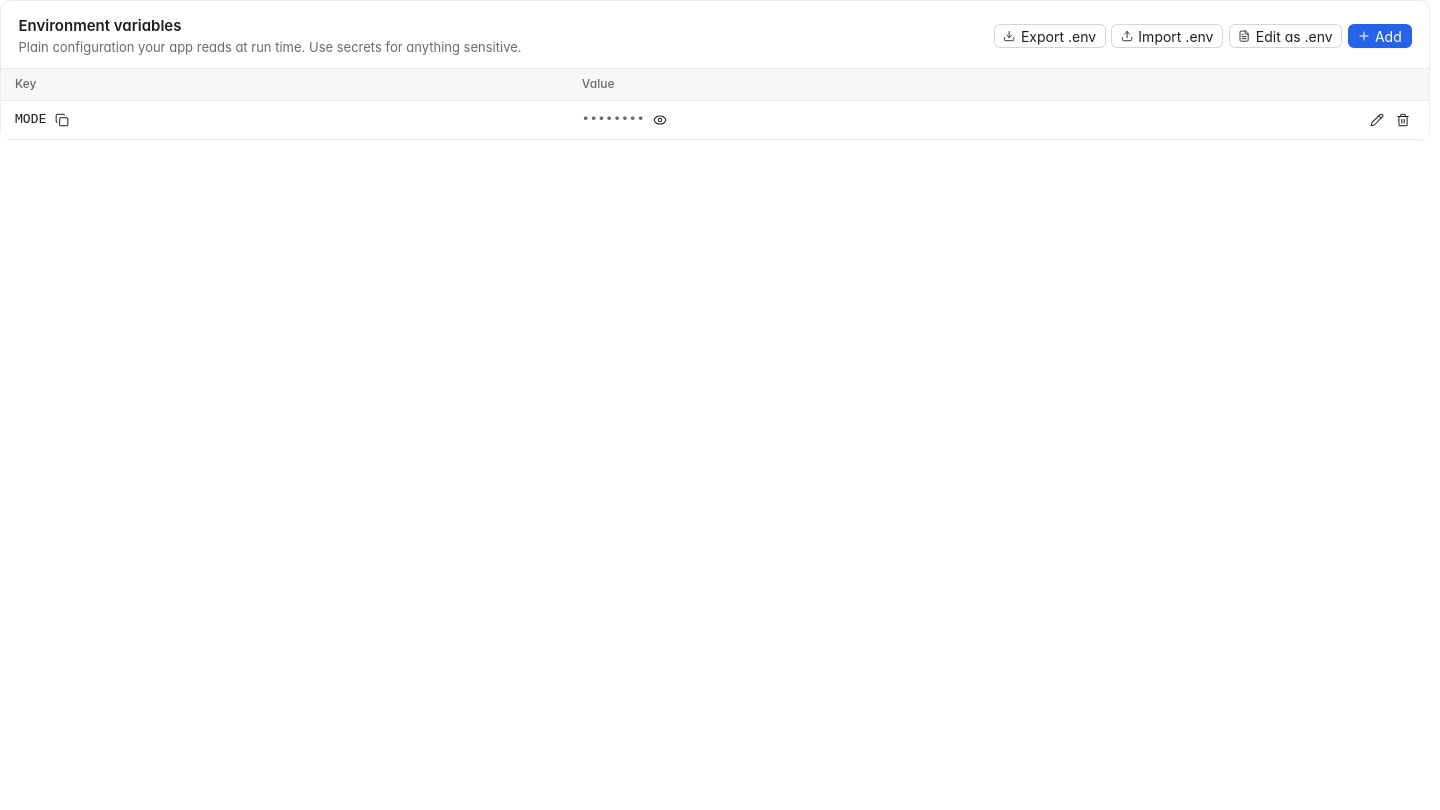
Test case: EnvEditor › adds a variable through the dialog and saves the whole map
Expected: the text "MODE" is shown, [15, 110, 46, 129]
Step 1. Click the button "Add" → (1380, 36), box [1348, 24, 1412, 48]
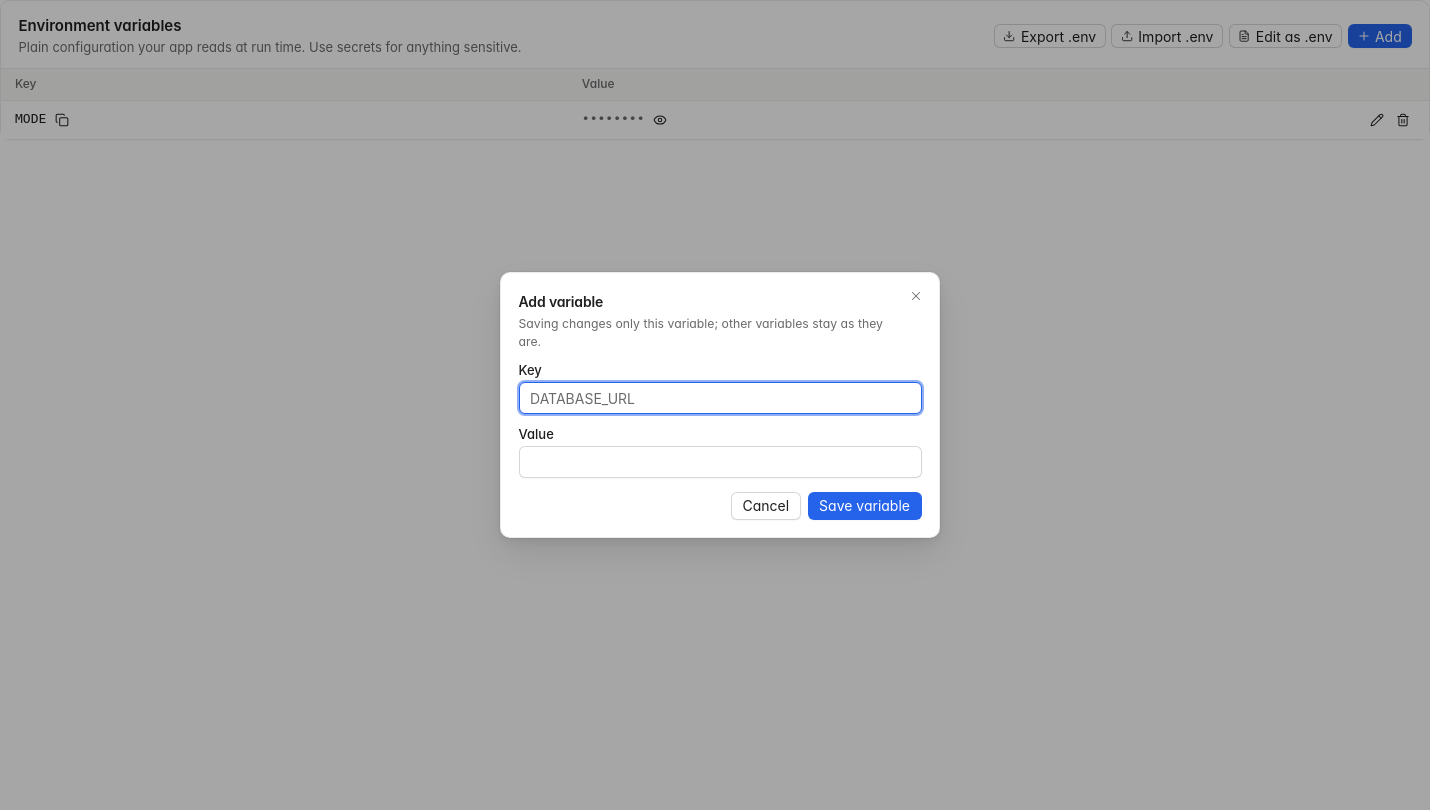
Step 2. Type "REGION" into the field labelled "Key" → (720, 398), box [518, 382, 922, 414]
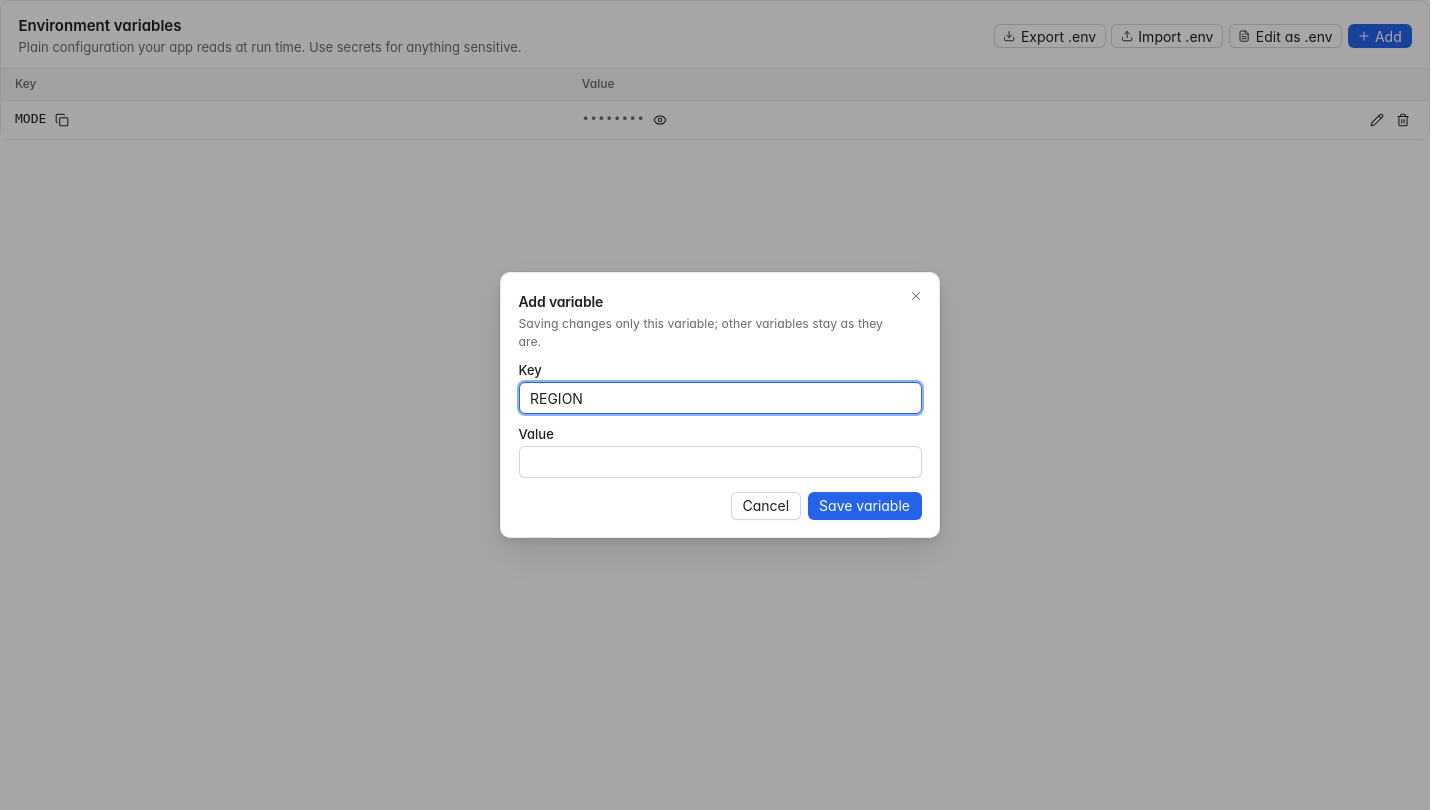
Step 3. Type "eu" into the field labelled "Value" → (720, 462), box [518, 446, 922, 478]
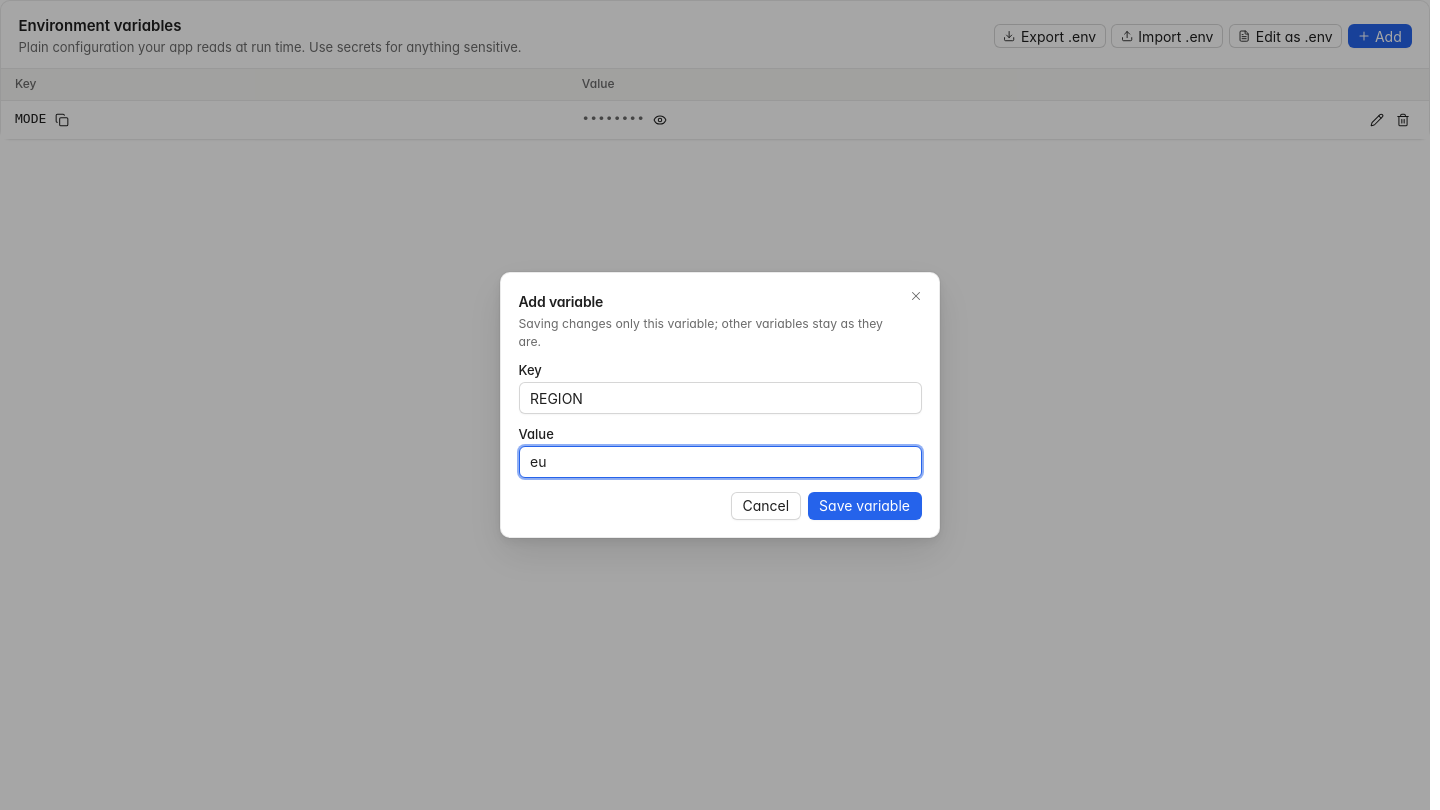
Step 4. Click the button "Save variable" → (865, 506), box [808, 492, 922, 520]
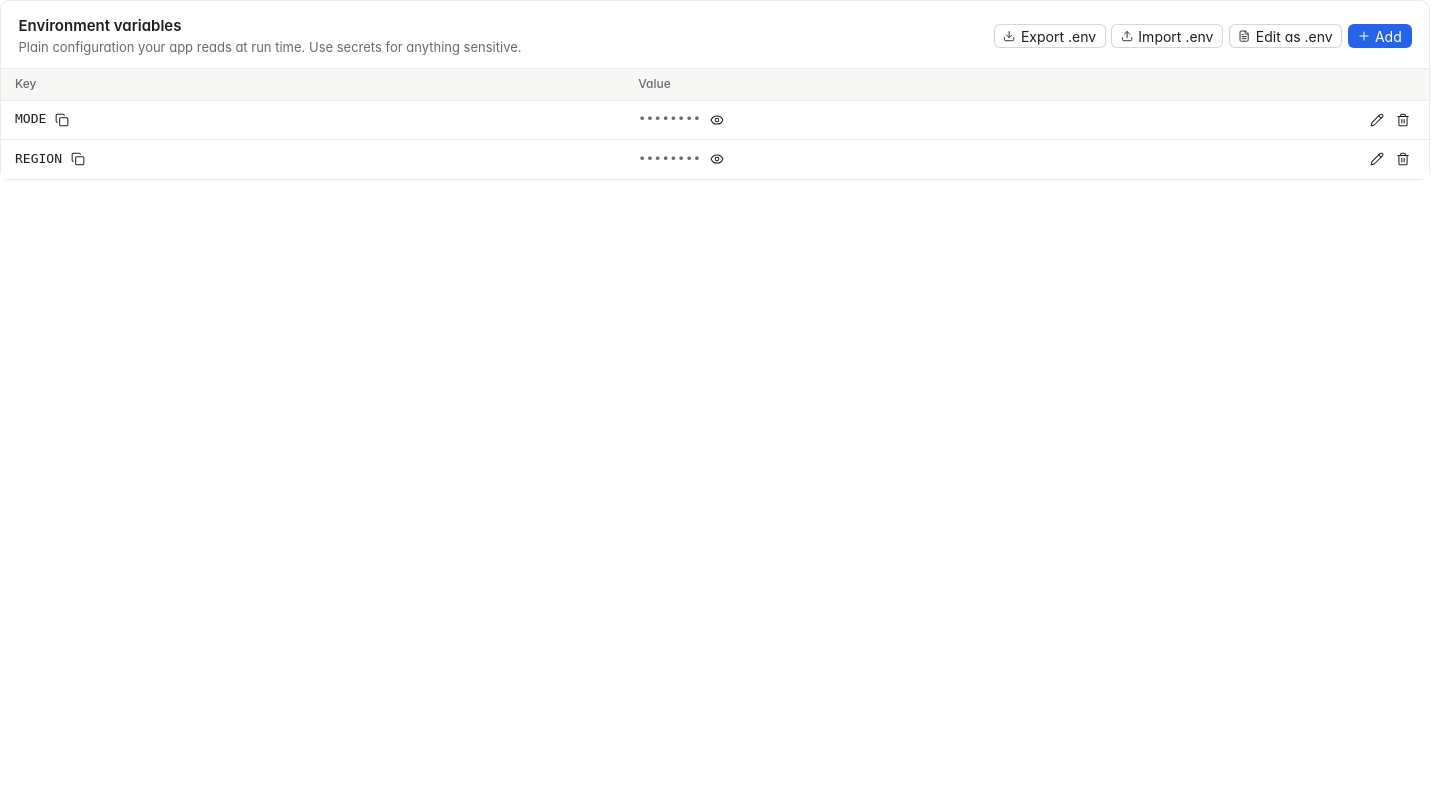
Expected: the text "REGION" is shown, [15, 150, 62, 169]
